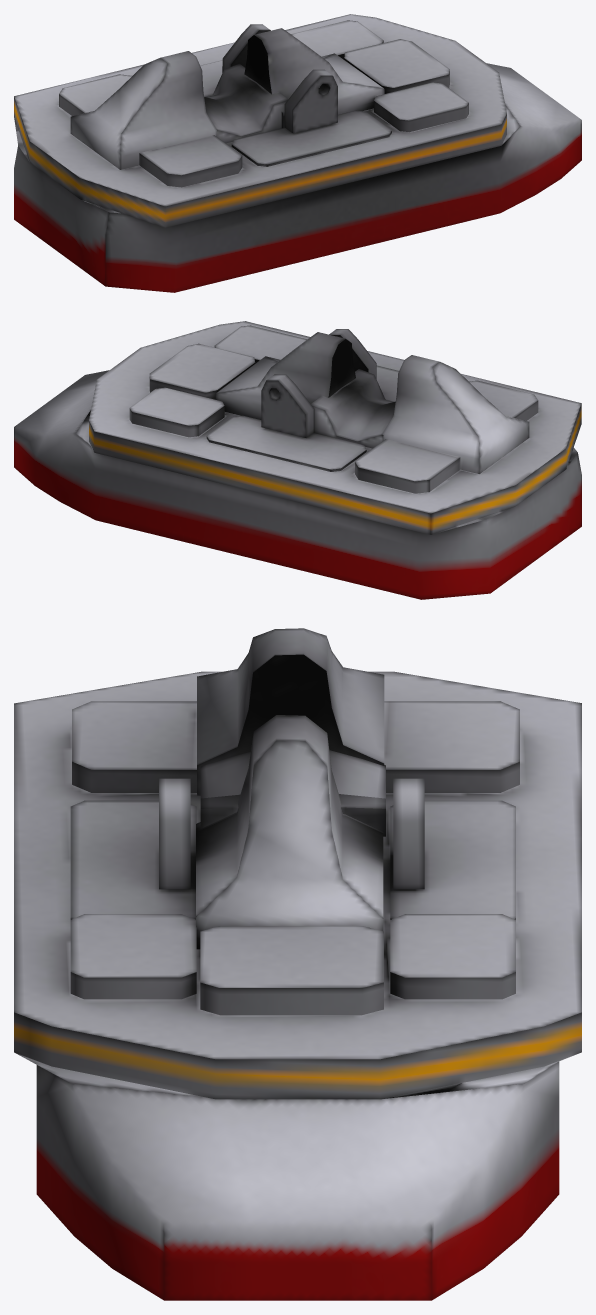
The model's file is l_foot.dae.
3 views of the same model, one above another, from view 1: azimuth 30°, elevation 25°; view 2: azimuth 150°, elevation 25°; view 3: azimuth 270°, elevation 25° (orthographic). The views are drawn at different scales.
Visible parts, largest first — view 1: l_foot; view 2: l_foot; view 3: l_foot.
Part boxes in pixels (x1=…): l_foot: x1=14, y1=14, x2=581, y2=292; l_foot: x1=14, y1=321, x2=581, y2=599; l_foot: x1=14, y1=628, x2=581, y2=1300.
Bounding box in the file's own units: 0.2629 × 0.1398 × 0.0866.
1 material, 1 textured.
